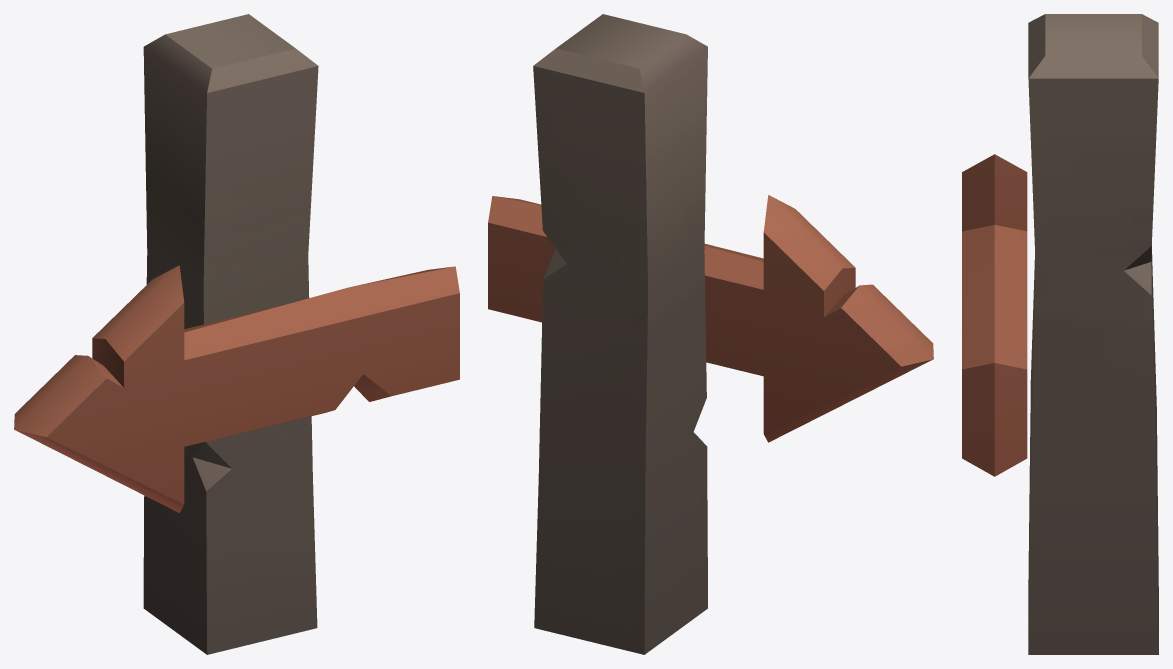
Rendered from sign_left.glb.
3 renders of one model, left to right at view 1: azimuth 30°, elevation 25°; view 2: azimuth 150°, elevation 25°; view 3: azimuth 270°, elevation 25°, orthographic. The views are drawn at different scales.
Parts seen in each view (by area): view 1: sign_left; view 2: sign_left; view 3: sign_left.
Part boxes in pixels (x1,y1,x2,y2): sign_left: [14, 14, 459, 654]; sign_left: [488, 14, 933, 654]; sign_left: [962, 14, 1158, 654].
Bounding box in the file's own units: 1.6 × 2 × 0.6026.
Materials: 1 (1 with a texture image).
